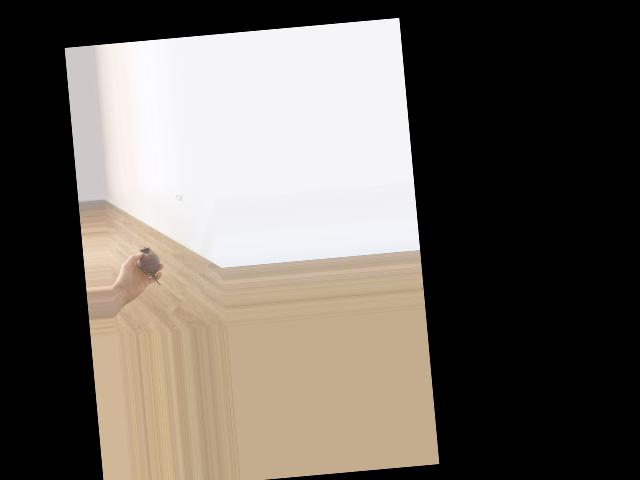beet: (136, 246, 162, 286)
